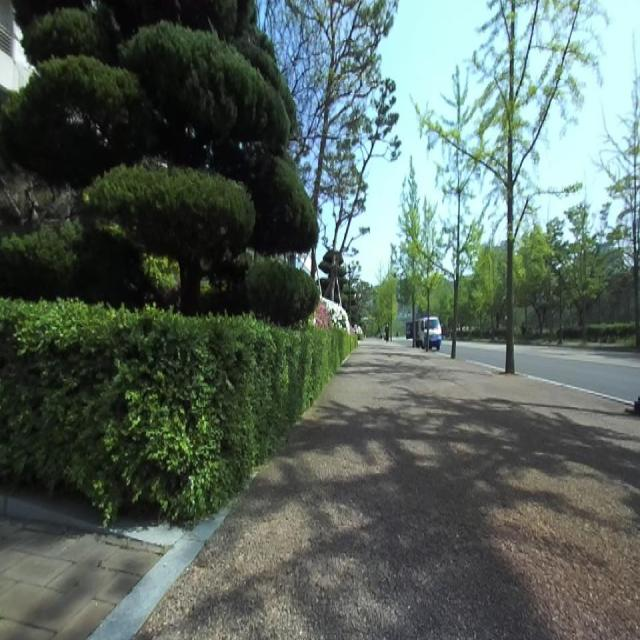sidewalk: (140, 339, 640, 639)
